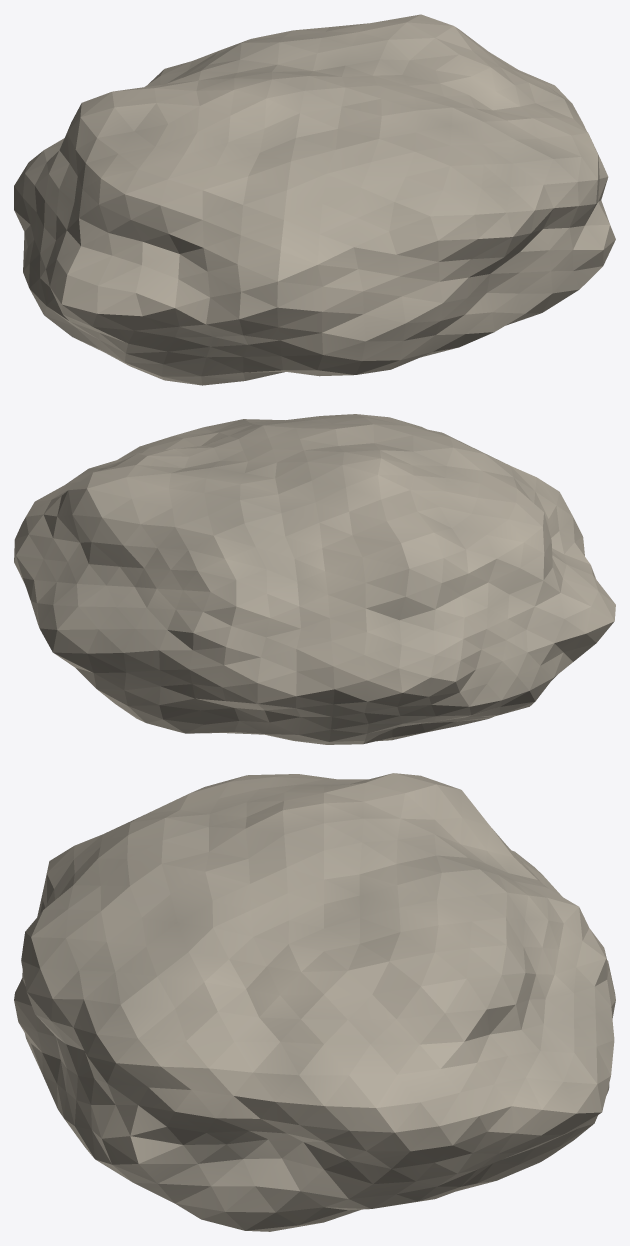
Rendered from stone_smooth_02_tan_flat.glb.
The picture shows the model from 3 angles, top to bottom: view 1: azimuth 30°, elevation 25°; view 2: azimuth 150°, elevation 25°; view 3: azimuth 270°, elevation 25°; orthographic projection. The views are drawn at different scales.
Visible parts, largest first — view 1: stone_smooth_02_tan_flat; view 2: stone_smooth_02_tan_flat; view 3: stone_smooth_02_tan_flat.
Boxes of the visible parts, left/top/right/bottom form: stone_smooth_02_tan_flat: left=14, top=14, right=615, bottom=385; stone_smooth_02_tan_flat: left=14, top=414, right=615, bottom=744; stone_smooth_02_tan_flat: left=14, top=773, right=615, bottom=1231.
Size of the model in its own units: 0.1416 by 0.0604 by 0.1137.
